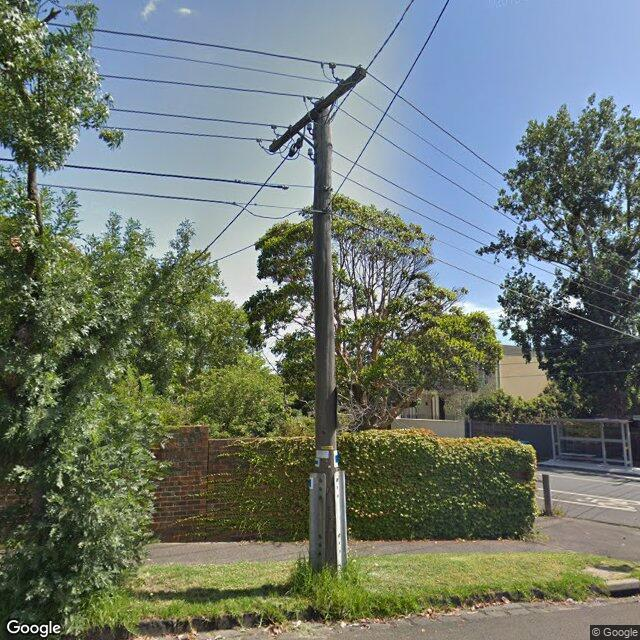crossarm: (270, 68, 367, 152)
timber-pole: (314, 100, 337, 570)
